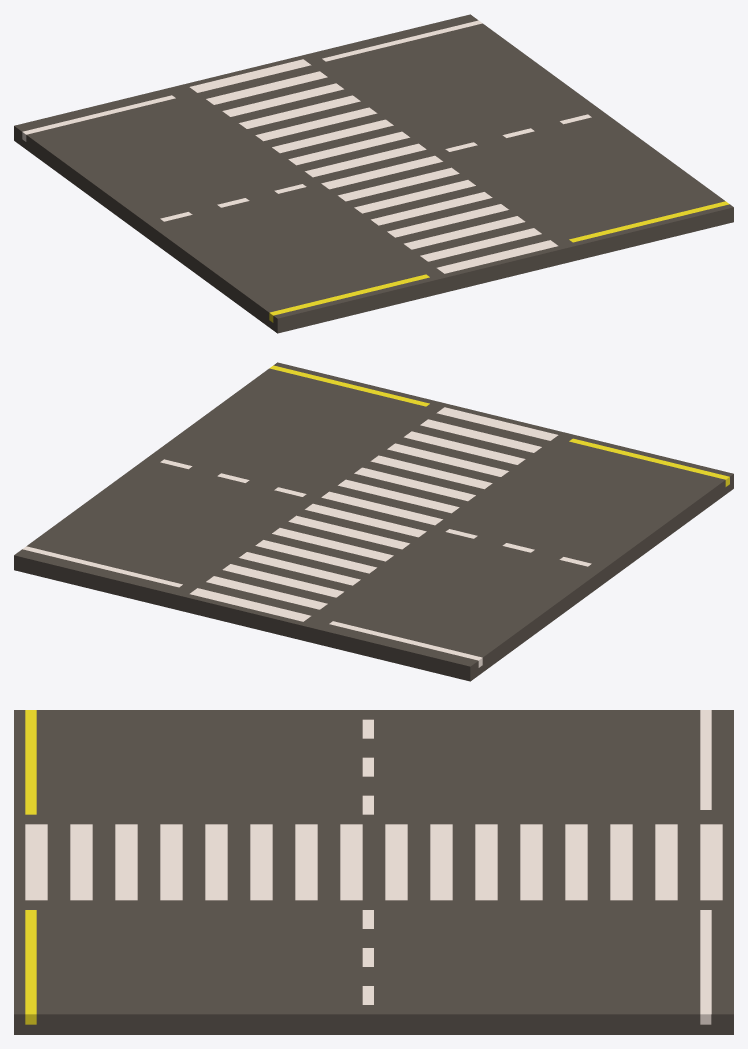
Rendered from road_a_b.obj.
3 views of the same model, one above another, from view 1: azimuth 30°, elevation 25°; view 2: azimuth 150°, elevation 25°; view 3: azimuth 270°, elevation 25° (orthographic). The views are drawn at different scales.
Size of the model in its own units: 6.4 by 0.2 by 6.4.
1 material, 1 textured.
